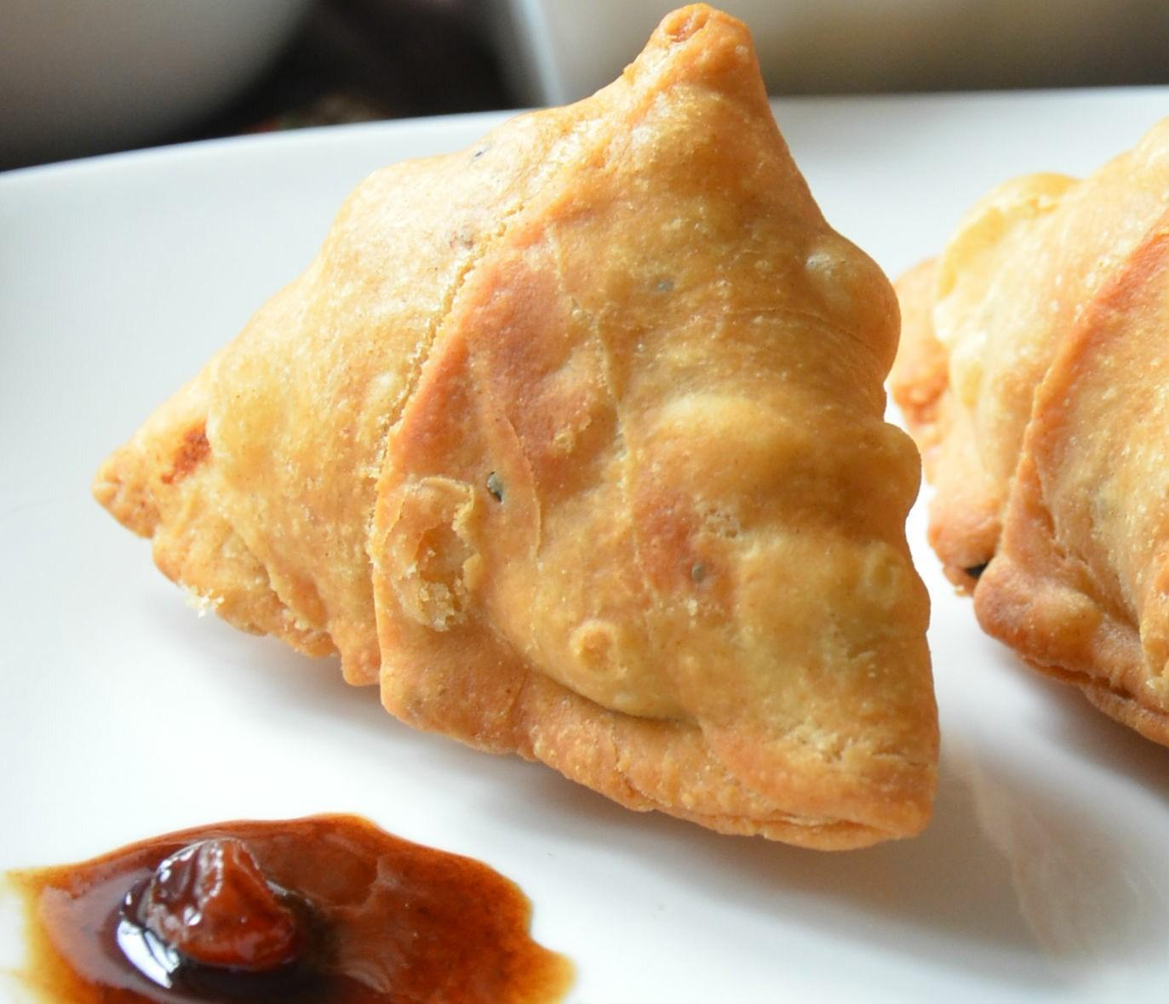Samosa: (95, 4, 939, 851), (894, 116, 1169, 765)
